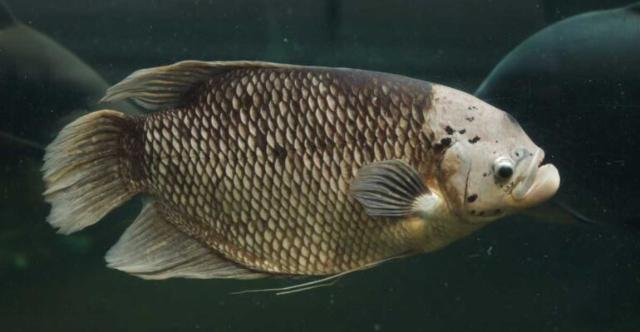Mulut: (464, 125, 578, 217)
Sirip Anal: (84, 187, 286, 295)
Sirip Dada: (344, 153, 446, 236)
Sirip Ekor: (28, 102, 176, 244)
Sirip Punggung: (93, 48, 324, 132)
